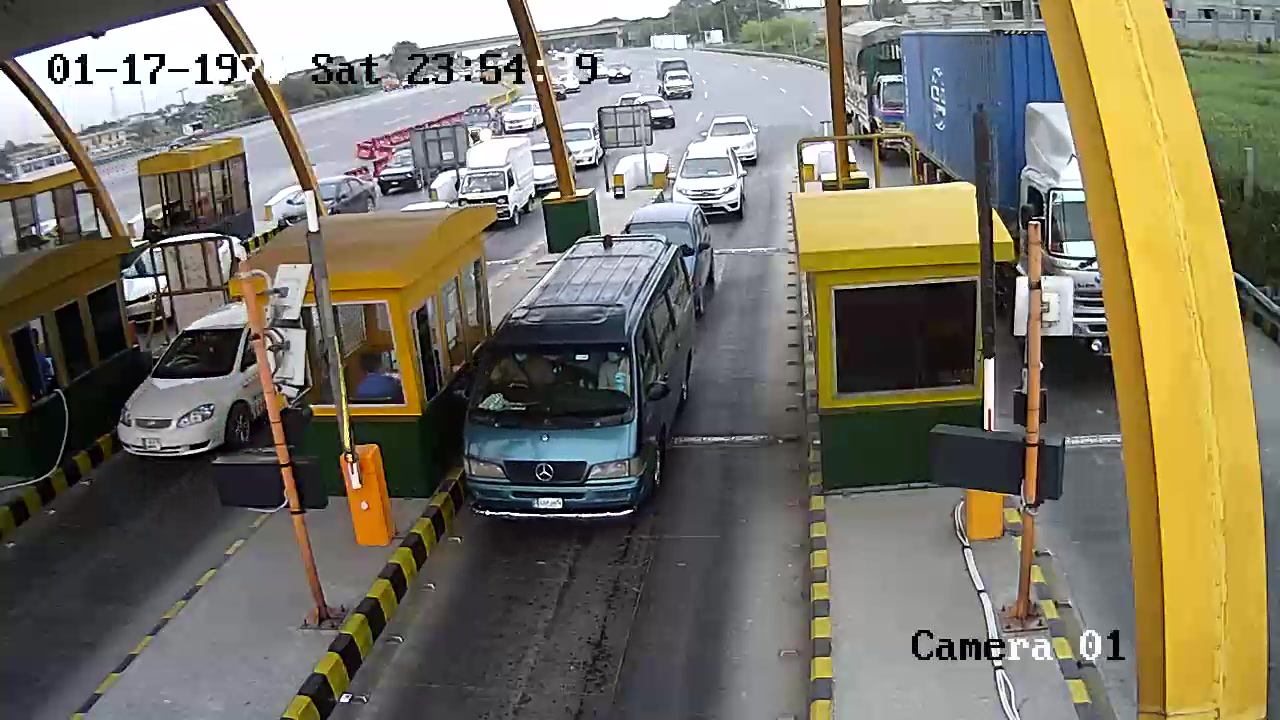F3: (459, 227, 712, 525)
